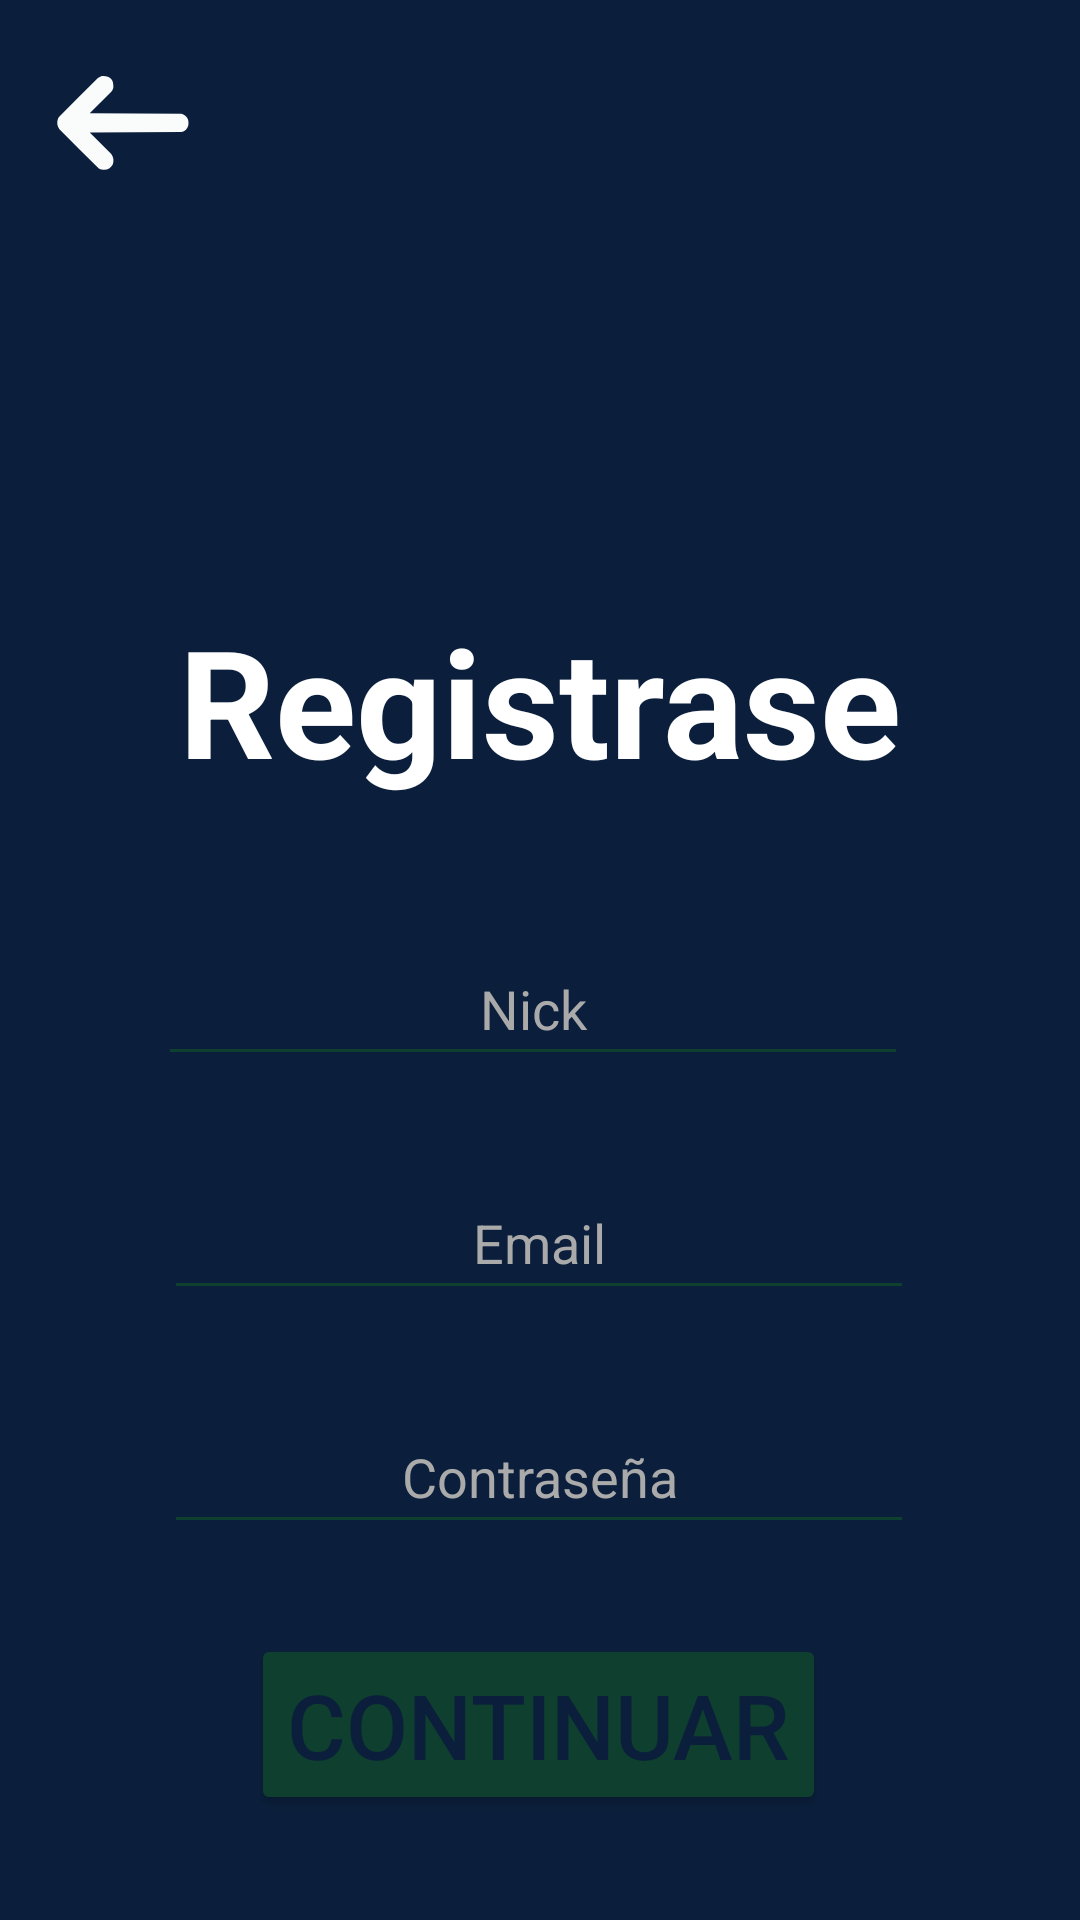

Icon bounding boxes for this 1080×1920 phone screenshot, format (x1, y1, x2, y2):
Volver: (57, 76, 189, 170)
